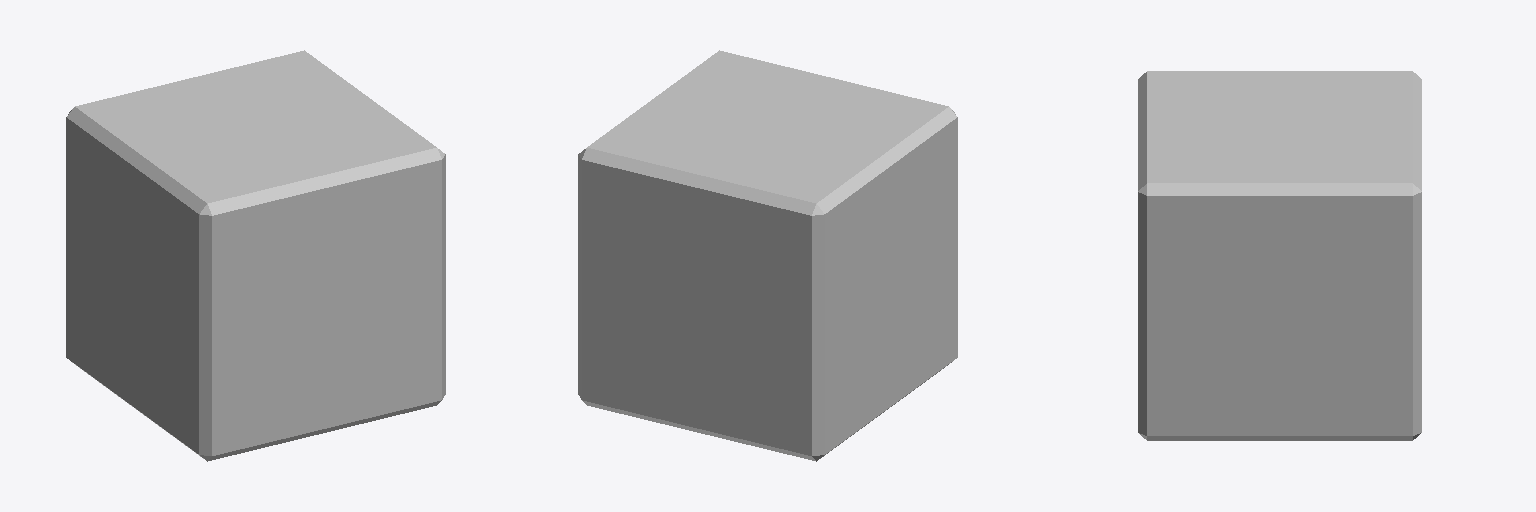
The model's file is crateResampled2.obj.
3 renders of one model, left to right at view 1: azimuth 30°, elevation 25°; view 2: azimuth 150°, elevation 25°; view 3: azimuth 270°, elevation 25°, orthographic.
Size of the model in its own units: 1 by 1 by 1.